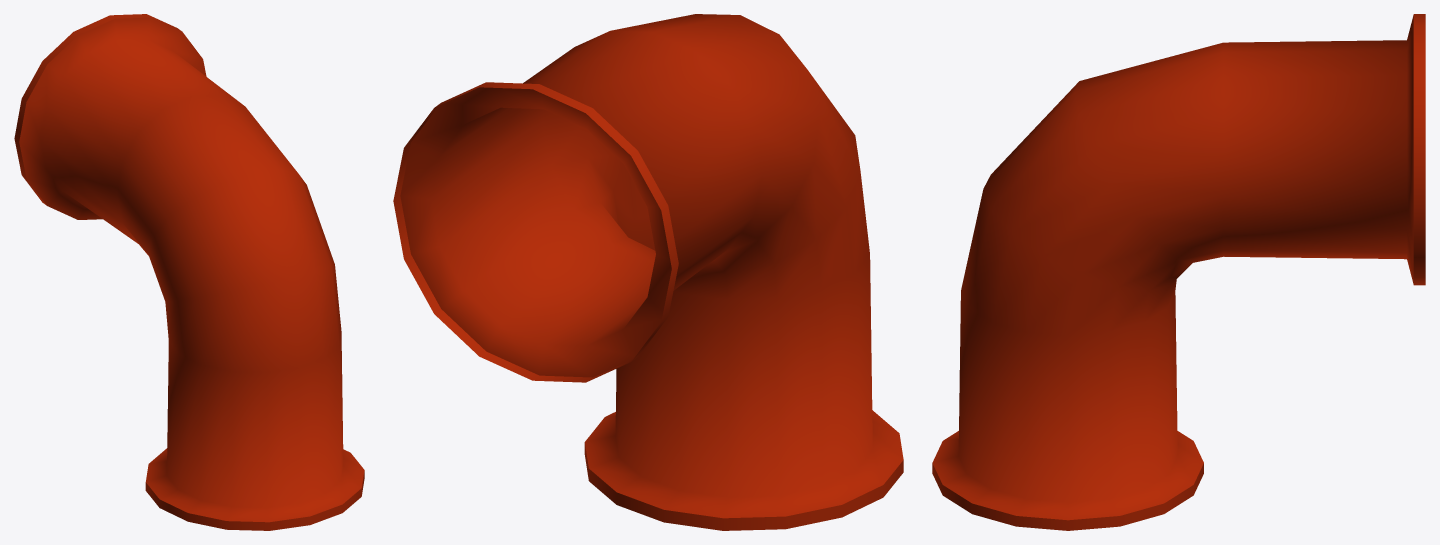
The model's file is Pipe_13_LOD0.FBX.
The picture shows the model from 3 angles, left to right: view 1: azimuth 30°, elevation 25°; view 2: azimuth 150°, elevation 25°; view 3: azimuth 270°, elevation 25°; orthographic projection. The views are drawn at different scales.
Visible parts, largest first — view 1: Pipe_up1_013_LOD0; view 2: Pipe_up1_013_LOD0; view 3: Pipe_up1_013_LOD0.
Part boxes in pixels (left/top/right/bottom): Pipe_up1_013_LOD0: left=14, top=14, right=364, bottom=530; Pipe_up1_013_LOD0: left=393, top=14, right=903, bottom=530; Pipe_up1_013_LOD0: left=932, top=14, right=1425, bottom=530.
Size of the model in its own units: 38 by 68.99 by 69.
